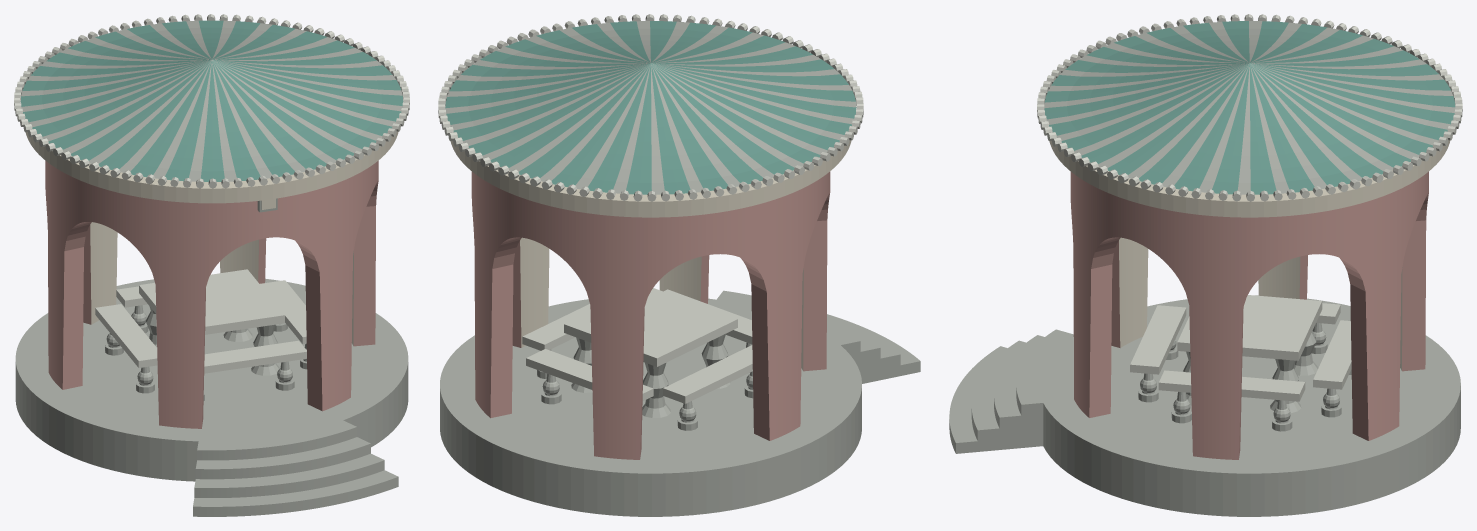
File: music-pavilion.glb
3 renders of one model, left to right at view 1: azimuth 30°, elevation 25°; view 2: azimuth 150°, elevation 25°; view 3: azimuth 270°, elevation 25°, orthographic. The views are drawn at different scales.
Parts seen in each view (by area): view 1: music-pavilion; view 2: music-pavilion; view 3: music-pavilion.
Boxes of the visible parts, x1=… form: music-pavilion: x1=14, y1=14, x2=409, y2=516; music-pavilion: x1=438, y1=14, x2=920, y2=516; music-pavilion: x1=949, y1=14, x2=1462, y2=516.
Bounding box in the file's own units: 5.34 × 5.05 × 6.44.
